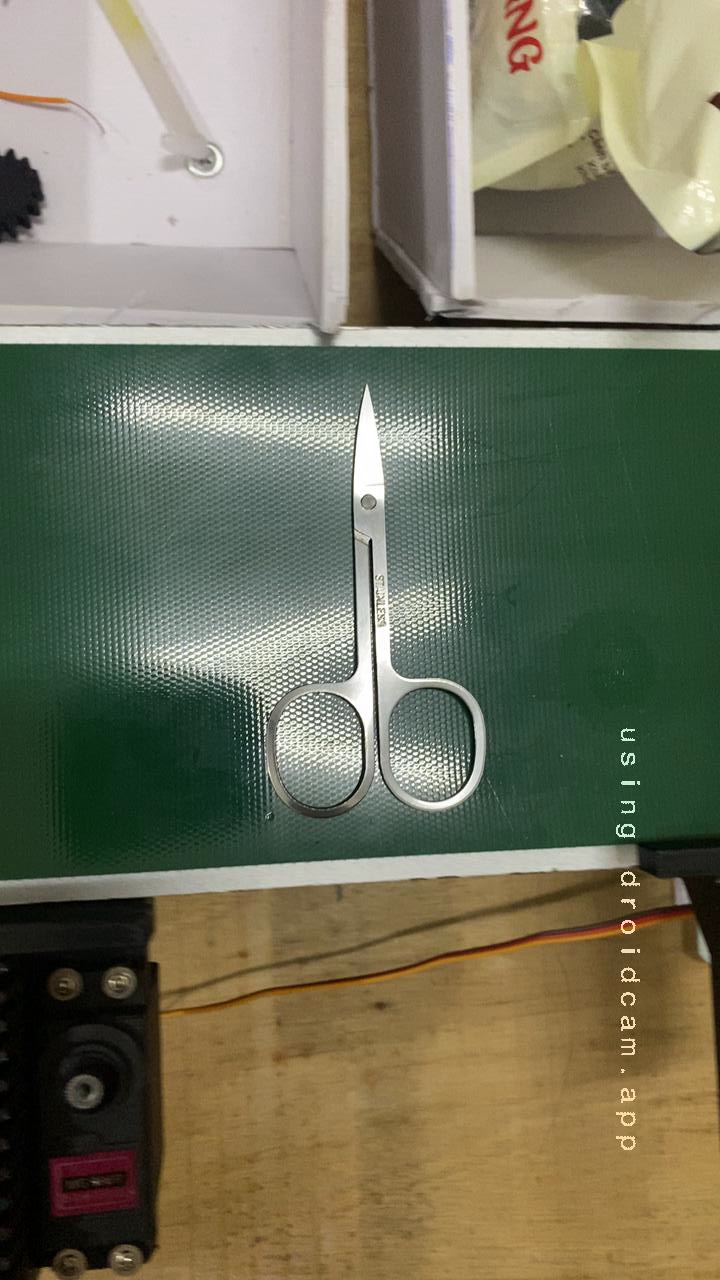scissor: (218, 392, 524, 835)
